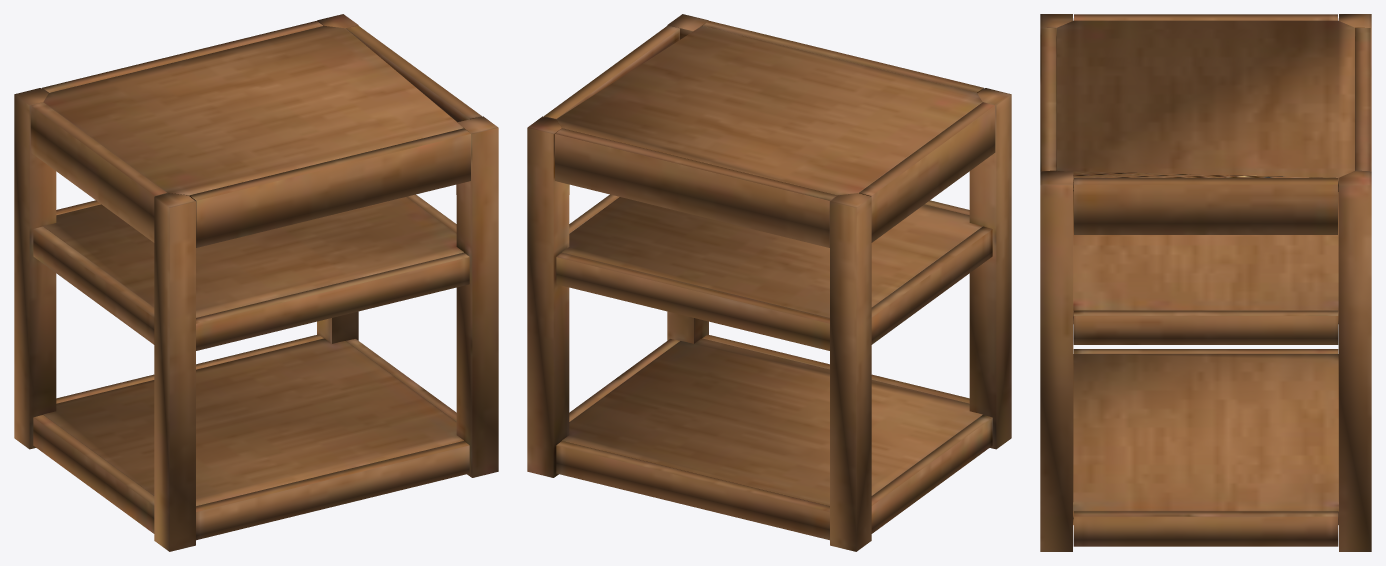
File: side_table.glb
3 views of the same model, side by side, from view 1: azimuth 30°, elevation 25°; view 2: azimuth 150°, elevation 25°; view 3: azimuth 270°, elevation 25° (orthographic). The views are drawn at different scales.
Visible parts, largest first — view 1: side_table; view 2: side_table; view 3: side_table.
Part boxes in pixels (x1,y1,x2,y2): side_table: (14,14,498,551); side_table: (527,14,1011,551); side_table: (1040,14,1371,551).
Size of the model in its own units: 0.5485 by 0.5505 by 0.4486.
1 material, 1 textured.
